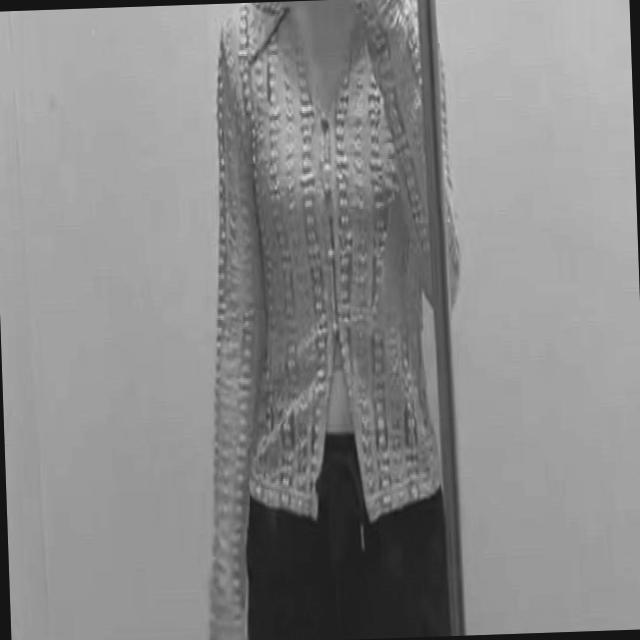cardigan: (188, 0, 474, 640)
